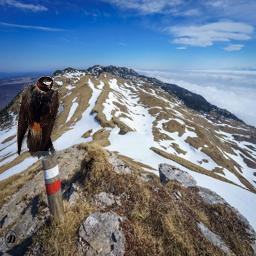Swallow: (16, 76, 59, 159)
